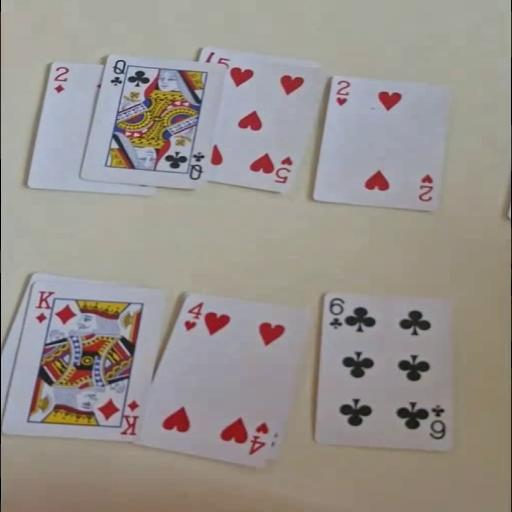2: (415, 171, 435, 202), (50, 64, 70, 94), (333, 78, 352, 107)
4: (244, 419, 270, 456), (180, 299, 204, 332)
5: (272, 154, 294, 184)
6: (426, 403, 448, 440), (326, 295, 346, 330)
K: (117, 397, 142, 436), (31, 288, 56, 324)
Q: (186, 150, 206, 182), (106, 58, 126, 86)
